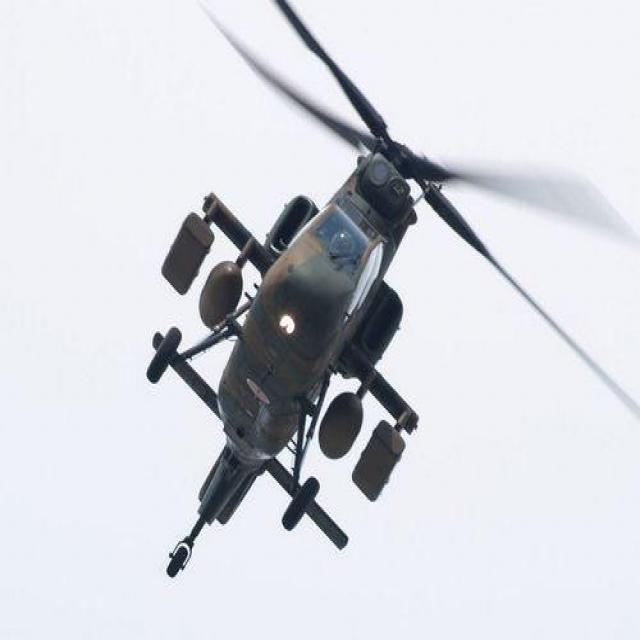MIL_HELO: (140, 0, 639, 588)
